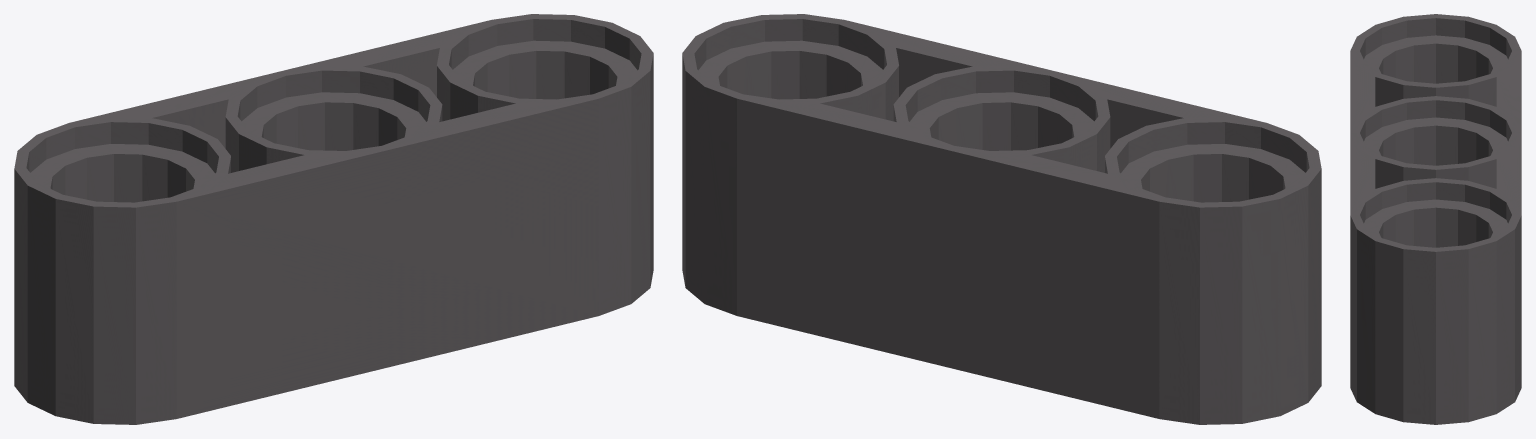
The picture shows the model from 3 angles, left to right: view 1: azimuth 30°, elevation 25°; view 2: azimuth 150°, elevation 25°; view 3: azimuth 270°, elevation 25°; orthographic projection. The views are drawn at different scales.
Visible parts, largest first — view 1: node; view 2: node; view 3: node.
Part boxes in pixels (<box>): node: <box>14,14,653,424</box>; node: <box>682,14,1321,424</box>; node: <box>1350,14,1521,424</box>.
Size of the model in its own units: 57.5 by 19.5 by 17.5.
1 material, 1 textured.
